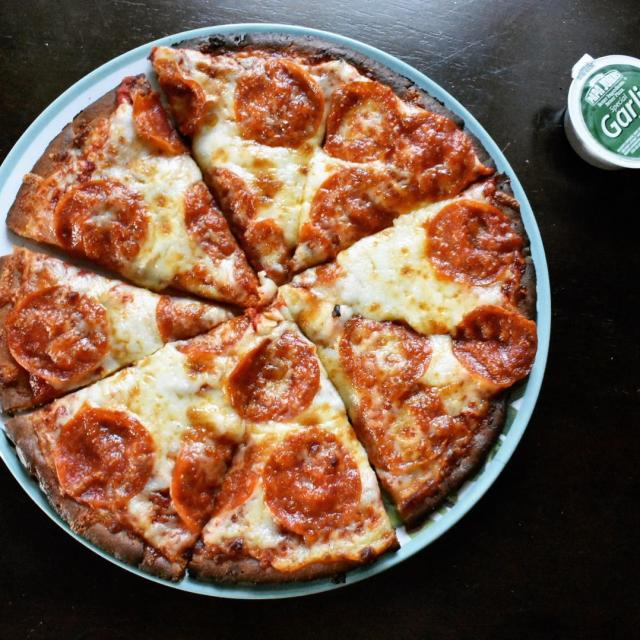pepperoni: (341, 310, 455, 466), (7, 283, 113, 386), (263, 431, 365, 538), (53, 403, 156, 507), (228, 53, 325, 151), (49, 176, 148, 270), (426, 197, 525, 289), (152, 266, 254, 354), (127, 56, 207, 159), (225, 337, 321, 422), (169, 432, 256, 525), (388, 110, 476, 198), (183, 164, 269, 252), (324, 69, 402, 163), (450, 301, 538, 384), (310, 166, 390, 241)
pizza: (0, 30, 538, 585)
